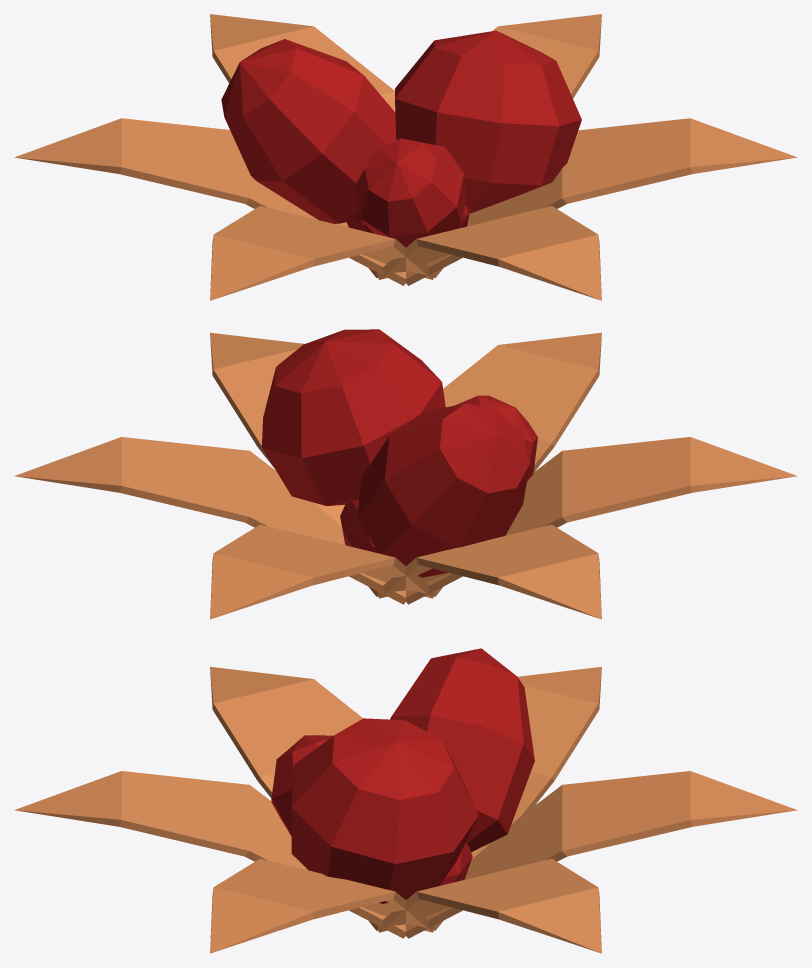
Rendered from Flower_f_c_01.fbx.
3 views of the same model, one above another, from view 1: azimuth 30°, elevation 25°; view 2: azimuth 150°, elevation 25°; view 3: azimuth 270°, elevation 25° (orthographic).
Parts seen in each view (by area): view 1: Flower_f_c_01_LOD0; view 2: Flower_f_c_01_LOD0; view 3: Flower_f_c_01_LOD0.
Boxes of the visible parts, bbox=[...] form: Flower_f_c_01_LOD0: bbox=[14, 14, 797, 300]; Flower_f_c_01_LOD0: bbox=[14, 329, 797, 619]; Flower_f_c_01_LOD0: bbox=[14, 648, 797, 953].
Size of what is drawn, in the model's own units: 3.67 by 1.35 by 4.24.
